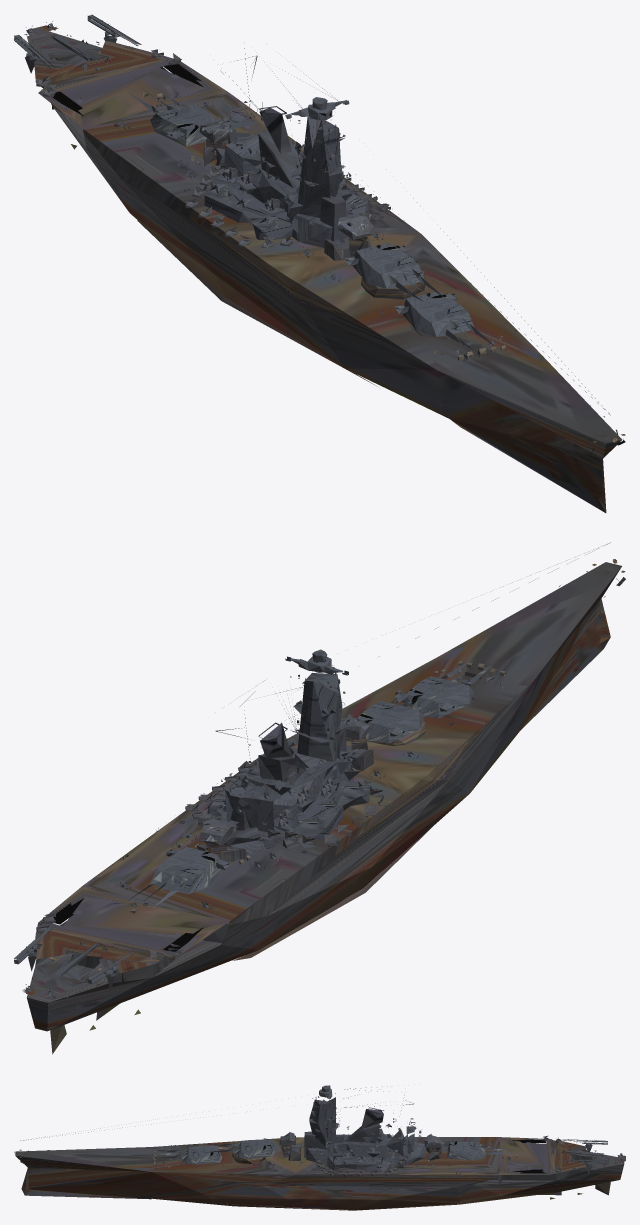
3 renders of one model, top to bottom at view 1: azimuth 30°, elevation 25°; view 2: azimuth 150°, elevation 25°; view 3: azimuth 270°, elevation 25°, orthographic. The views are drawn at different scales.
Parts seen in each view (by area): view 1: Object_70, Object_20, Object_49, Object_38, Object_22, Object_29, Object_5; view 2: Object_70, Object_20, Object_49, Object_38, Object_22, Object_29; view 3: Object_70, Object_20, Object_49, Object_38, Object_22, Object_29, Object_2, Object_53.
Part boxes in pixels (x1,y1,x2,y2): Object_70: (24, 25, 622, 512); Object_20: (204, 55, 369, 247); Object_49: (129, 87, 495, 349); Object_38: (36, 49, 390, 247); Object_22: (199, 120, 374, 239); Object_29: (14, 14, 179, 103); Object_5: (285, 97, 349, 120); Object_70: (22, 542, 621, 1054); Object_20: (206, 673, 369, 853); Object_49: (128, 659, 495, 908); Object_38: (36, 761, 390, 960); Object_22: (199, 717, 374, 845); Object_29: (14, 910, 181, 984); Object_70: (15, 1086, 625, 1210); Object_20: (304, 1097, 425, 1171); Object_49: (154, 1138, 514, 1164); Object_38: (316, 1134, 561, 1176); Object_22: (279, 1132, 444, 1147); Object_29: (526, 1139, 607, 1168); Object_2: (512, 1139, 545, 1173); Object_53: (343, 1134, 397, 1157).
Bounding box in the file's own units: 1.03 × 1.36 × 6.68.
Materials: 46 (45 with a texture image).
